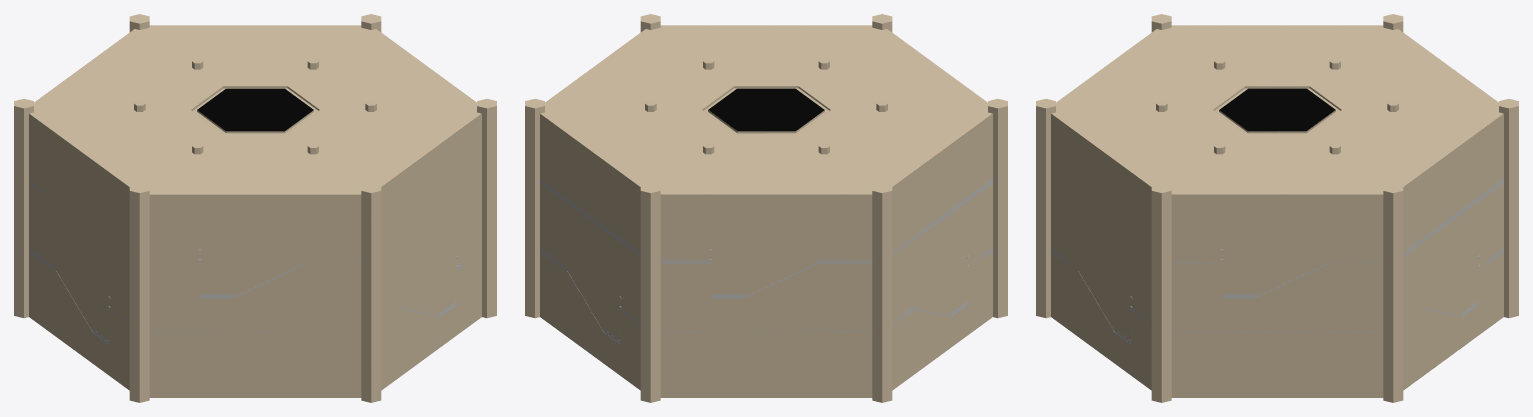
File: Stage_Race.fbx
The picture shows the model from 3 angles, left to right: view 1: azimuth 30°, elevation 25°; view 2: azimuth 150°, elevation 25°; view 3: azimuth 270°, elevation 25°; orthographic projection.
Parts seen in each view (by area): view 1: Main_1, Pillars_1, 2ndFloor_1, 3rdFloor; view 2: Main_1, Pillars_1, 3rdFloor, 2ndFloor_1; view 3: Main_1, Pillars_1, 2ndFloor_1, 3rdFloor.
Part boxes in pixels (<box>): Main_1: <box>29,25,481,397</box>; Pillars_1: <box>14,14,496,402</box>; 2ndFloor_1: <box>29,248,464,344</box>; 3rdFloor: <box>29,179,360,298</box>; Main_1: <box>540,25,992,397</box>; Pillars_1: <box>525,14,1007,402</box>; 3rdFloor: <box>540,179,992,298</box>; 2ndFloor_1: <box>540,248,992,344</box>; Main_1: <box>1051,25,1503,397</box>; Pillars_1: <box>1036,14,1518,402</box>; 2ndFloor_1: <box>1051,248,1503,344</box>; 3rdFloor: <box>1171,179,1503,298</box>.
Size of the model in its own units: 73653 by 40491 by 83887.
